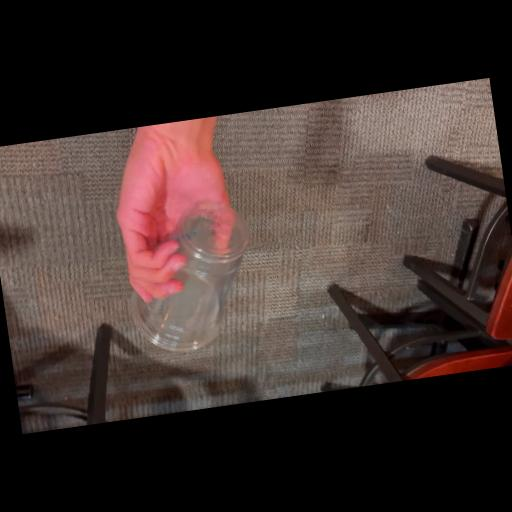lp_plastic_cup: (120, 201, 265, 355)
